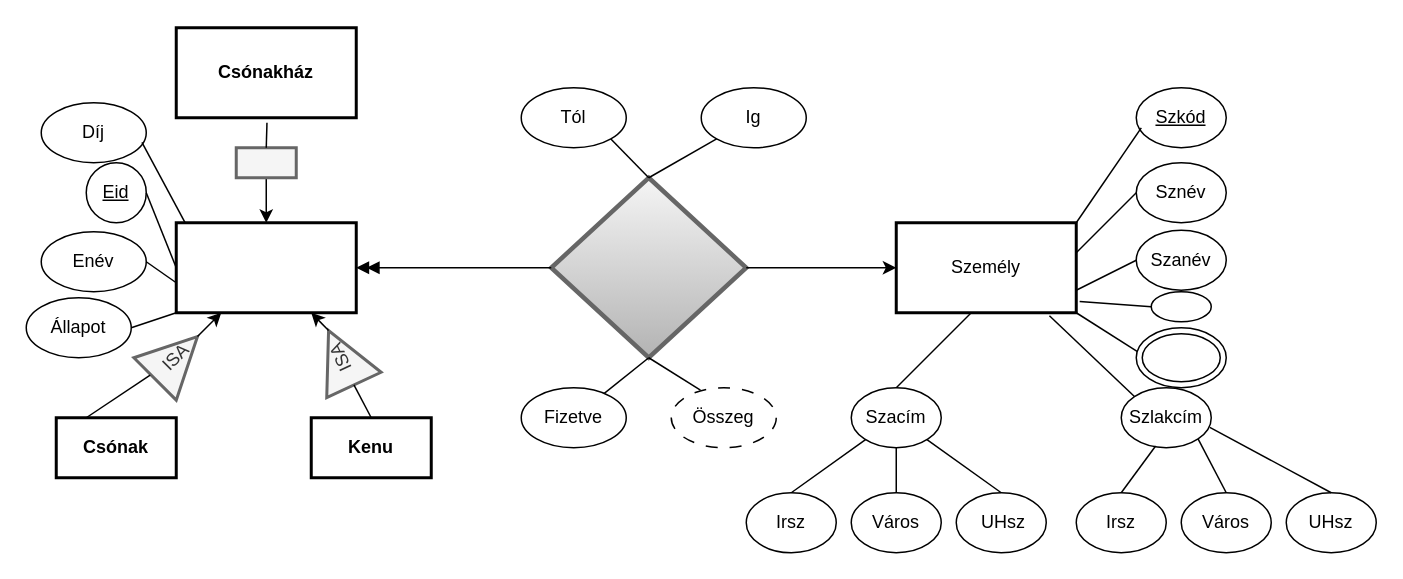
Some shapes in this 1403 by 579 pixel diagram are drawn without their labels. The shapes that lost their labels are listed below. From the top down, each one's centre as x and y in pixels, then its label:
At point (265, 162): "HAS_A".
At point (265, 267): "Eszköz".
At point (648, 267): "kölcsönző".
At point (1180, 306): "email".
At point (1180, 357): "Tszám".
